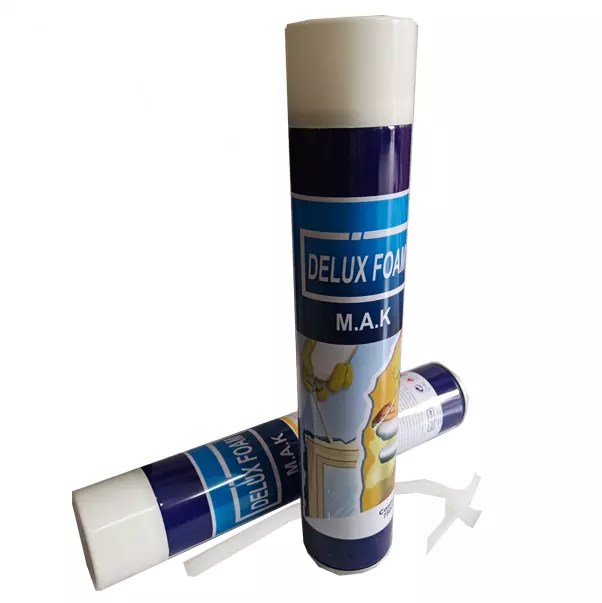Aerosol_cans: (70, 358, 470, 593), (280, 10, 421, 582)
